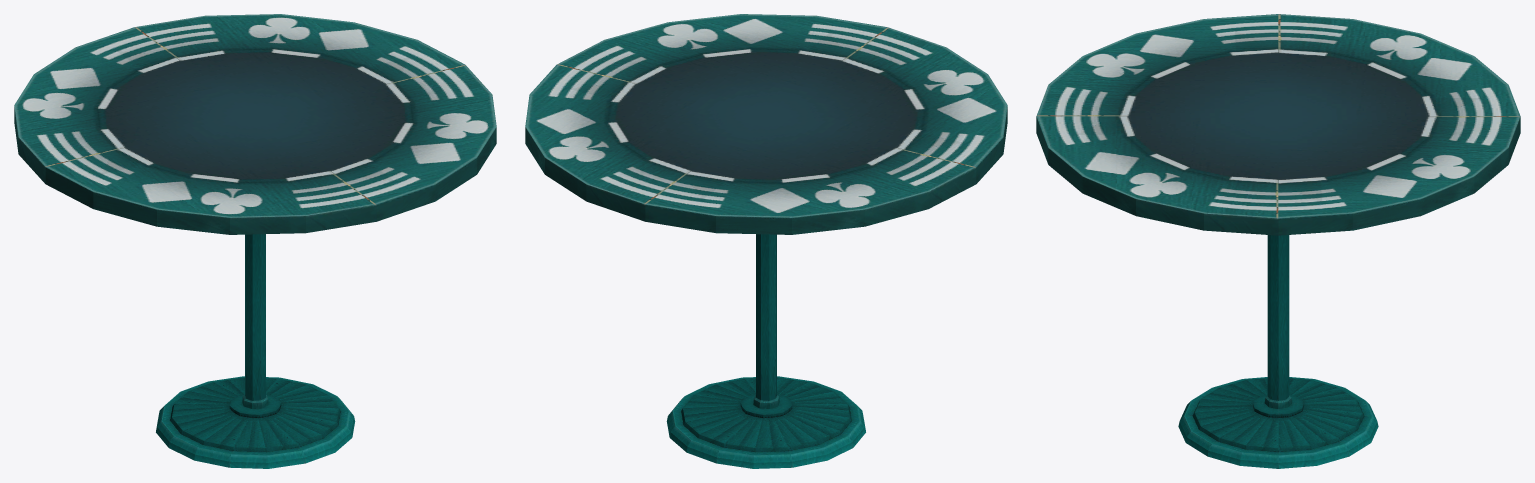
Rendered from Patio Table.obj.
3 renders of one model, left to right at view 1: azimuth 30°, elevation 25°; view 2: azimuth 150°, elevation 25°; view 3: azimuth 270°, elevation 25°, orthographic.
Parts seen in each view (by area): view 1: Mesh_0421.rip_Mesh_04_Mesh_0421.rip_Mesh_04_Mesh_0421.rip_patio1, Mesh_0421.rip_Mesh_04_Mesh_0421.rip_Mesh_04_Mesh_0422.rip_patio1; view 2: Mesh_0421.rip_Mesh_04_Mesh_0421.rip_Mesh_04_Mesh_0421.rip_patio1, Mesh_0421.rip_Mesh_04_Mesh_0421.rip_Mesh_04_Mesh_0422.rip_patio1; view 3: Mesh_0421.rip_Mesh_04_Mesh_0421.rip_Mesh_04_Mesh_0421.rip_patio1, Mesh_0421.rip_Mesh_04_Mesh_0421.rip_Mesh_04_Mesh_0422.rip_patio1.
Boxes of the visible parts, left/top/right/bottom form: Mesh_0421.rip_Mesh_04_Mesh_0421.rip_Mesh_04_Mesh_0421.rip_patio1: left=14, top=14, right=496, bottom=234; Mesh_0421.rip_Mesh_04_Mesh_0421.rip_Mesh_04_Mesh_0422.rip_patio1: left=156, top=234, right=355, bottom=468; Mesh_0421.rip_Mesh_04_Mesh_0421.rip_Mesh_04_Mesh_0421.rip_patio1: left=525, top=14, right=1007, bottom=234; Mesh_0421.rip_Mesh_04_Mesh_0421.rip_Mesh_04_Mesh_0422.rip_patio1: left=666, top=234, right=865, bottom=468; Mesh_0421.rip_Mesh_04_Mesh_0421.rip_Mesh_04_Mesh_0421.rip_patio1: left=1036, top=14, right=1520, bottom=235; Mesh_0421.rip_Mesh_04_Mesh_0421.rip_Mesh_04_Mesh_0422.rip_patio1: left=1178, top=235, right=1378, bottom=468.
Bounding box in the file's own units: 1.26 × 0.89 × 1.26.
